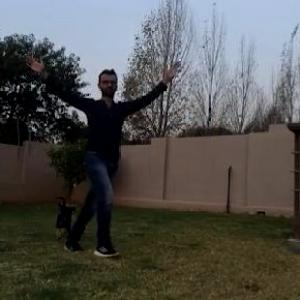takeoff: (31, 60, 177, 262)
